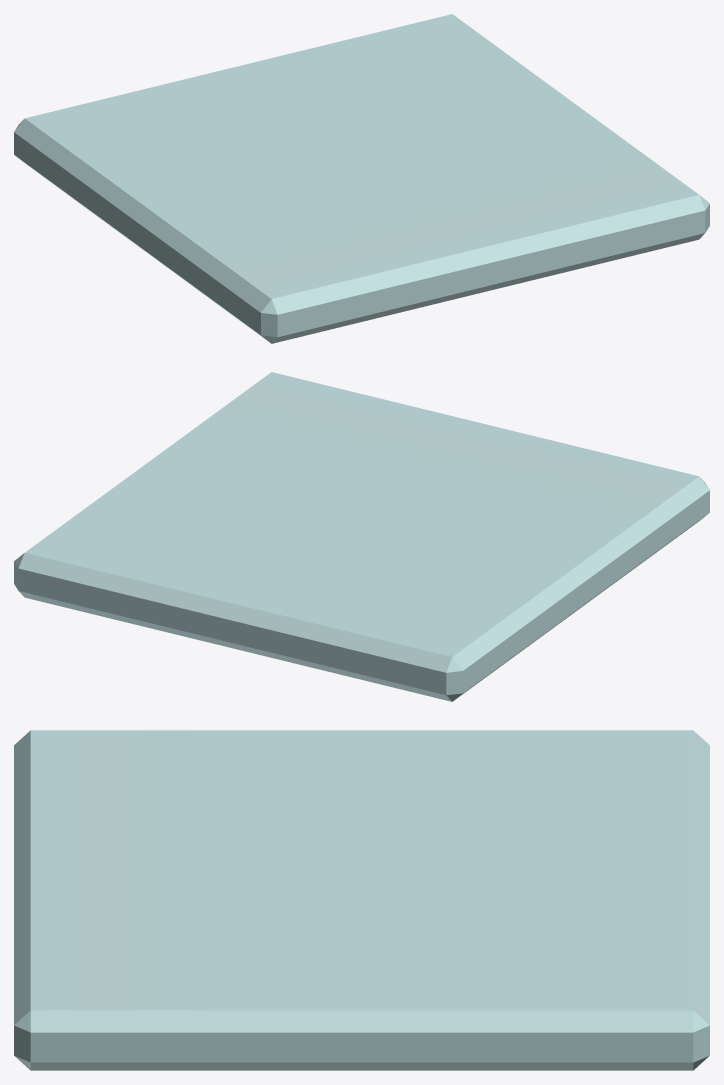
The model's file is gachsan.fbx.
3 views of the same model, one above another, from view 1: azimuth 30°, elevation 25°; view 2: azimuth 150°, elevation 25°; view 3: azimuth 270°, elevation 25° (orthographic). The views are drawn at different scales.
Visible parts, largest first — view 1: gachsan; view 2: gachsan; view 3: gachsan.
Boxes of the visible parts, x1=… form: gachsan: x1=14, y1=14, x2=709, y2=343; gachsan: x1=14, y1=372, x2=709, y2=701; gachsan: x1=14, y1=730, x2=709, y2=1070.
Bounding box in the file's own units: 101 × 9.64 × 101.
